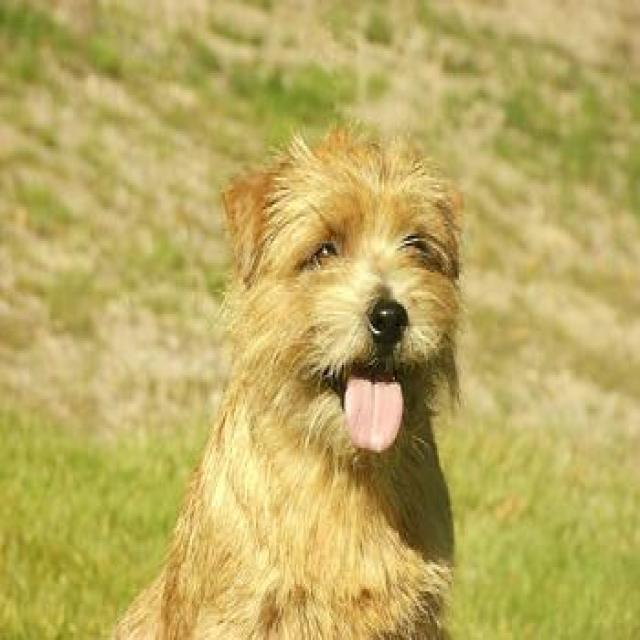dogs: (172, 92, 477, 640)
